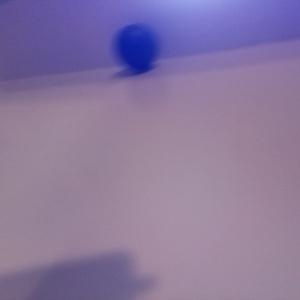dead_ball: (114, 23, 158, 70)
